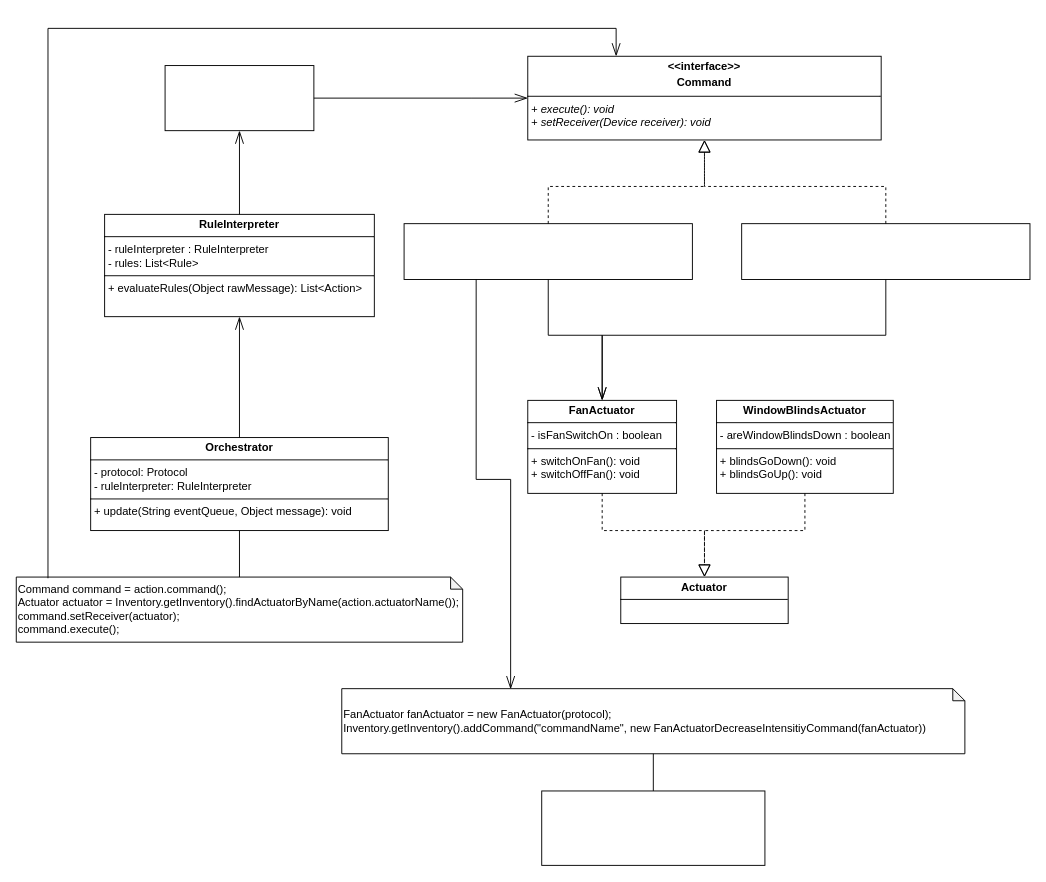
Some shapes in this 1046 by 882 pixel diagram are drawn without their labels. Each missing label, with the box of its shape:
Action + actuatorName: String + command: Command: (164, 65, 314, 131)
FanActuatorDecreaseIntensityCommand - fanActuator : FanActuator: (403, 223, 692, 279)
FanActuatorFactory + createDevice(Protocol protocol): Actuator: (541, 790, 765, 865)
FanActuatorIncreaseIntensityCommand - fanActuator : FanActuator: (741, 223, 1030, 279)
